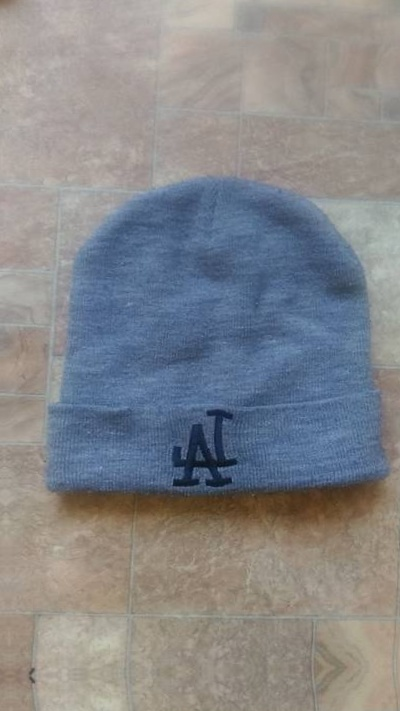Hat: (23, 168, 395, 530)
